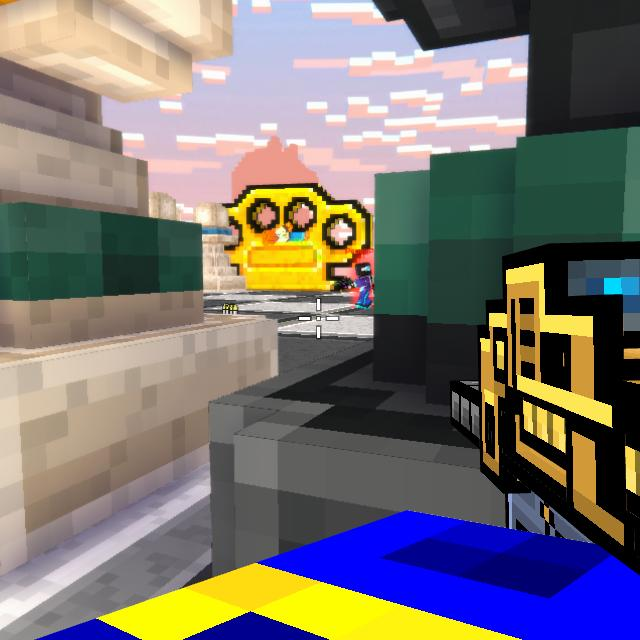Enemy: (347, 262, 373, 308)
